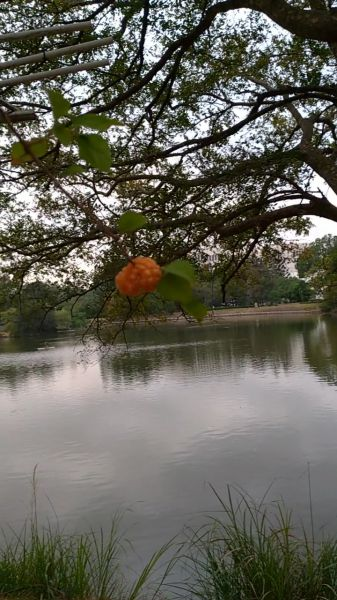eggs: (111, 253, 166, 299)
